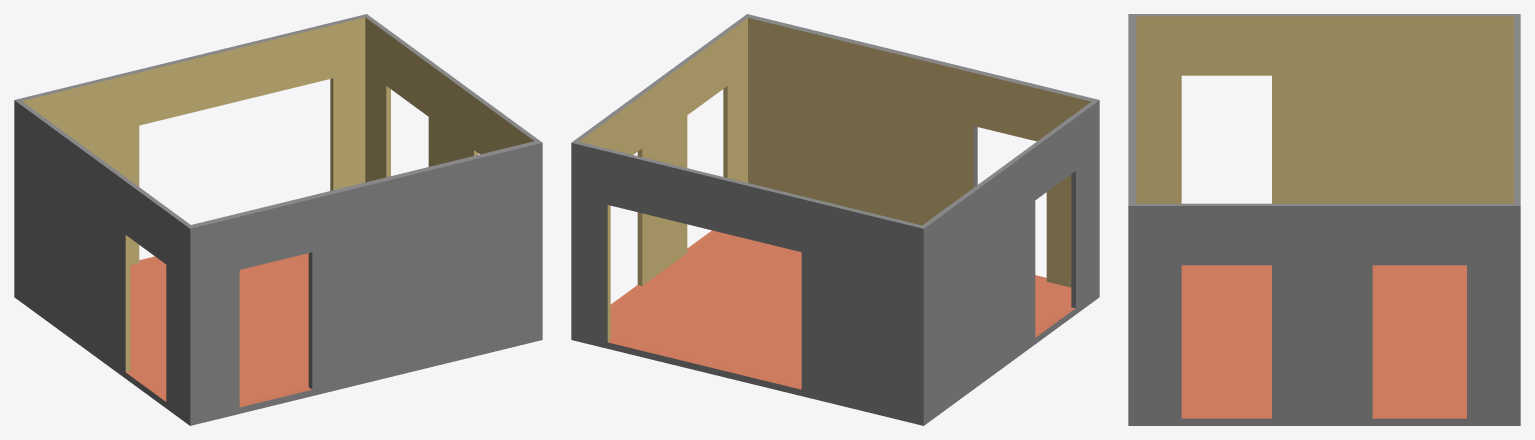
File: BigRoom.fbx
3 views of the same model, side by side, from view 1: azimuth 30°, elevation 25°; view 2: azimuth 150°, elevation 25°; view 3: azimuth 270°, elevation 25° (orthographic). The views are drawn at different scales.
Visible parts, largest first — view 1: BigRoom.001; view 2: BigRoom.001; view 3: BigRoom.001.
Boxes of the visible parts, x1=… form: BigRoom.001: x1=14, y1=14, x2=542, y2=425; BigRoom.001: x1=571, y1=14, x2=1099, y2=425; BigRoom.001: x1=1128, y1=14, x2=1520, y2=425.
Bounding box in the file's own units: 674 × 360 × 582.
